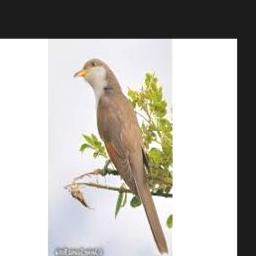Cuckoo: (74, 58, 169, 254)
